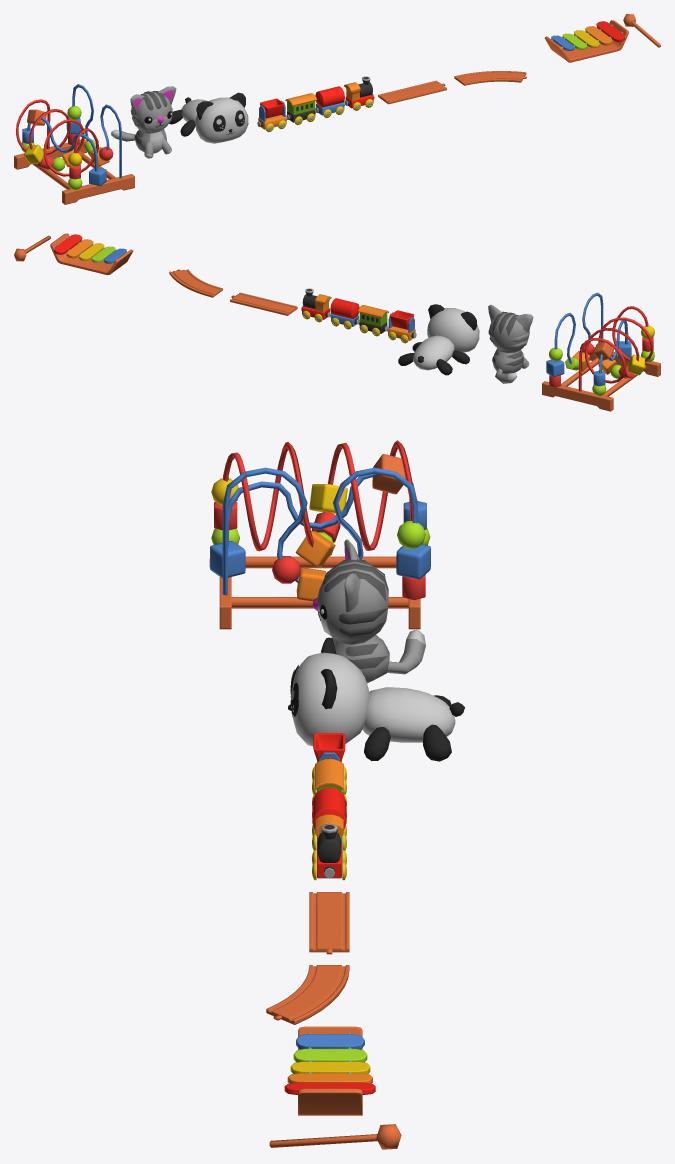
Rendered from gyerek_items_3.FBX.
3 renders of one model, top to bottom at view 1: azimuth 30°, elevation 25°; view 2: azimuth 150°, elevation 25°; view 3: azimuth 270°, elevation 25°, orthographic. The views are drawn at different scales.
Visible parts, largest first — view 1: ize_01, papanda_01, kitten_01, xylophone_01, train_wagon_01, train_passenger_car_01, train_rail_straight_01, train_rail_curve_right_01, train_oil_tank_01, train_engine_01; view 2: ize_01, papanda_01, kitten_01, xylophone_01, train_wagon_01, train_passenger_car_01, train_rail_straight_01, train_oil_tank_01, train_engine_01, train_rail_curve_right_01; view 3: ize_01, papanda_01, kitten_01, xylophone_01, train_rail_curve_right_01, train_rail_straight_01, train_engine_01, xylophone_pulsatile_01, train_oil_tank_01, train_wagon_01.
Part boxes in pixels (bbox=[...]): ize_01: bbox=[14, 84, 134, 204]; papanda_01: bbox=[169, 92, 248, 143]; kitten_01: bbox=[111, 86, 176, 158]; xylophone_01: bbox=[544, 20, 628, 62]; train_wagon_01: bbox=[257, 98, 287, 132]; train_passenger_car_01: bbox=[285, 93, 316, 125]; train_rail_straight_01: bbox=[378, 80, 446, 104]; train_rail_curve_right_01: bbox=[454, 71, 526, 85]; train_oil_tank_01: bbox=[315, 86, 344, 117]; train_engine_01: bbox=[344, 76, 374, 110]; ize_01: bbox=[542, 292, 660, 411]; papanda_01: bbox=[398, 304, 479, 375]; kitten_01: bbox=[488, 305, 533, 383]; xylophone_01: bbox=[50, 233, 133, 275]; train_wagon_01: bbox=[387, 310, 416, 343]; train_passenger_car_01: bbox=[357, 305, 388, 336]; train_rail_straight_01: bbox=[230, 292, 297, 315]; train_oil_tank_01: bbox=[330, 298, 359, 329]; train_engine_01: bbox=[301, 288, 331, 322]; train_rail_curve_right_01: bbox=[169, 269, 222, 297]; ize_01: bbox=[209, 440, 430, 629]; papanda_01: bbox=[288, 637, 464, 761]; kitten_01: bbox=[312, 539, 425, 683]; xylophone_01: bbox=[284, 1026, 375, 1115]; train_rail_curve_right_01: bbox=[266, 965, 349, 1024]; train_rail_straight_01: bbox=[309, 892, 349, 954]; train_engine_01: bbox=[312, 814, 346, 880]; xylophone_pulsatile_01: bbox=[269, 1124, 401, 1149]; train_oil_tank_01: bbox=[312, 788, 346, 850]; train_wagon_01: bbox=[312, 733, 346, 794].
Size of the model in its own units: 16490 by 2958 by 1939.
Materials: 1 (1 with a texture image).
